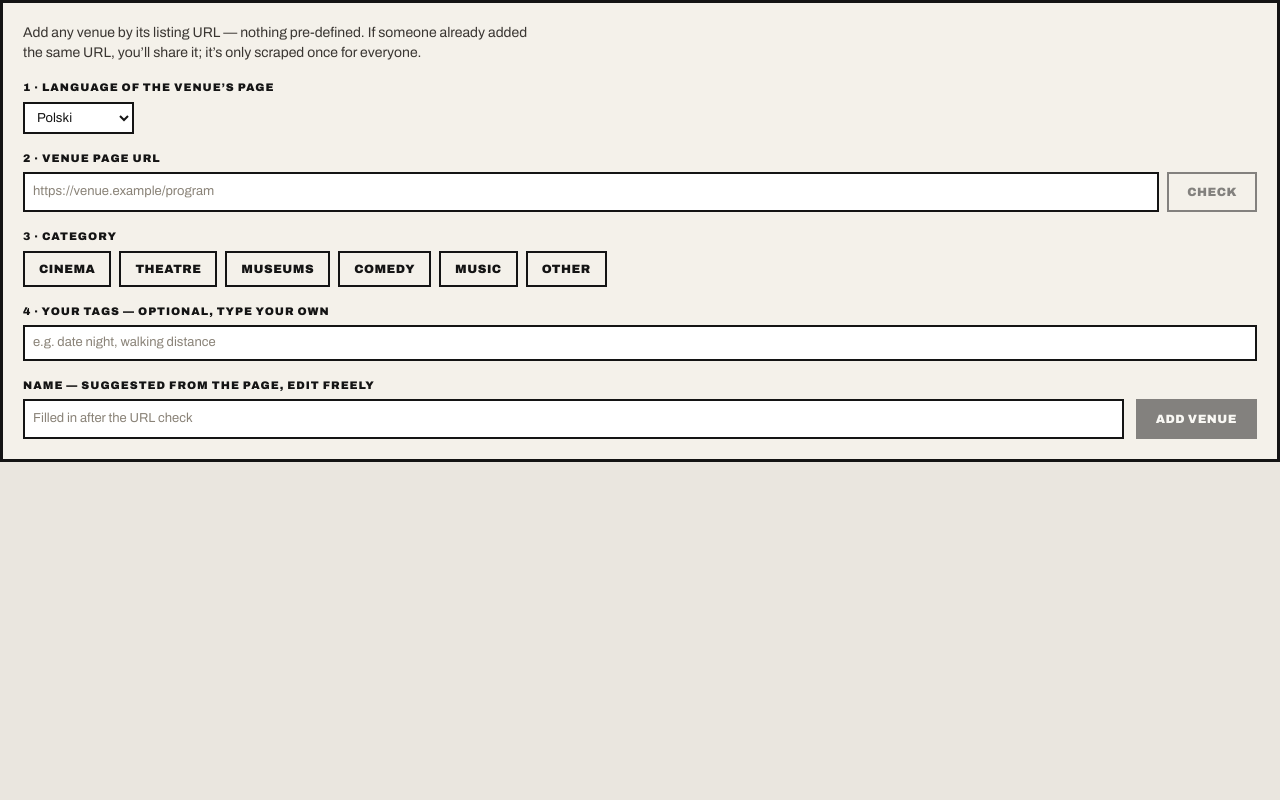
Test: AddVenueForm — probe result (GOI-72 §5, §8) › confirms a scrapable URL, names the venue from the page, and shows what it found
The image size is (1280, 800).
Type "https://palacowe.example/repertuar" into the field labelled "2 · Venue page URL". click: x=591, y=192
box: x1=23 y1=172 x2=1159 y2=212
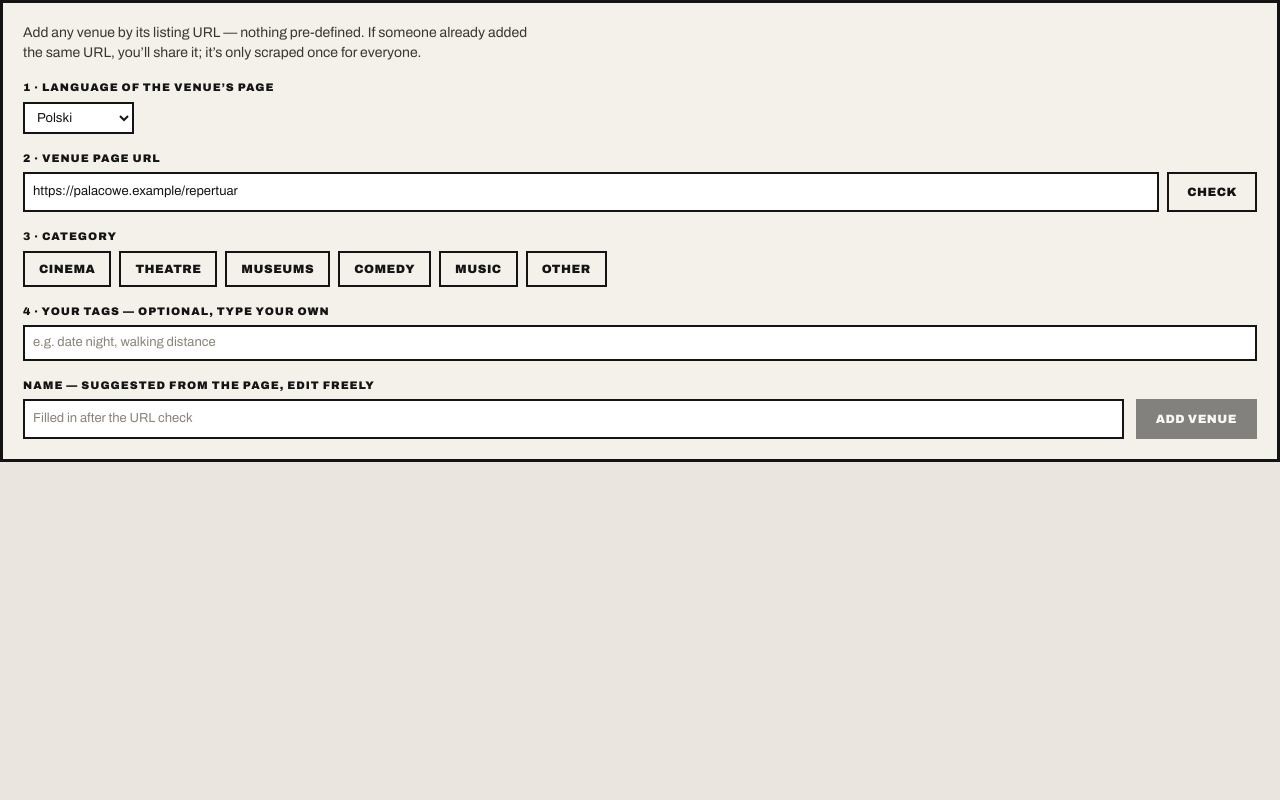
Click the button "Check". click: x=1212, y=192
box: x1=1167 y1=172 x2=1257 y2=212
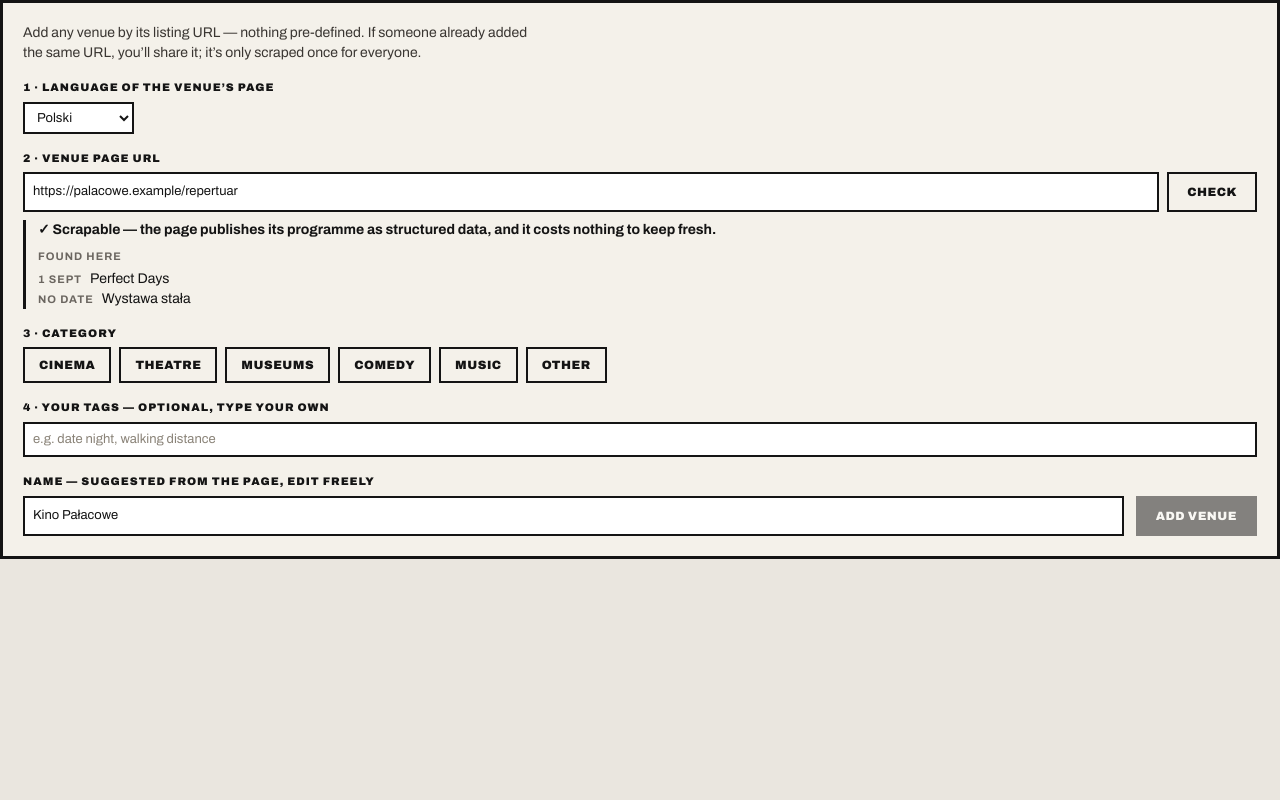
Check: the message shows "✓ Scrapable", box x1=23 y1=220 x2=1257 y2=308
Check: the message shows "structured data", box x1=140 y1=222 x2=487 y2=237
Check: the message shows "costs nothing to keep fresh", box x1=487 y1=222 x2=712 y2=237
